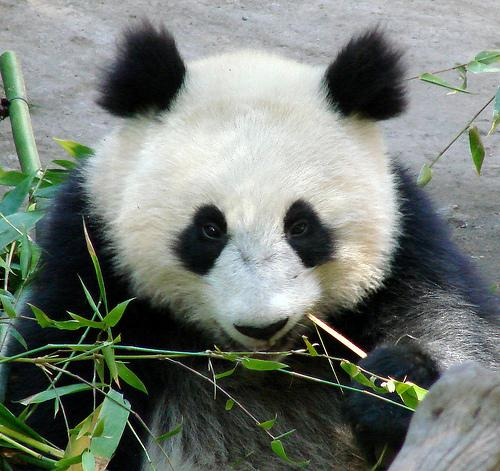panda: (0, 20, 499, 471)
